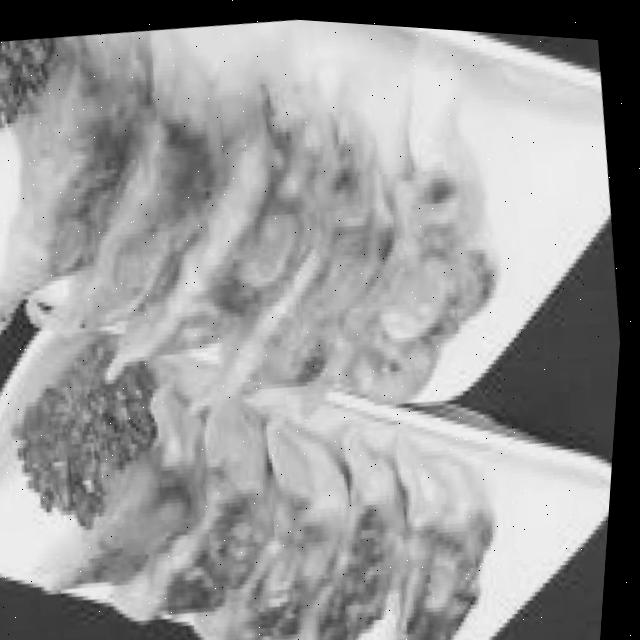带馅早点: (0, 13, 548, 640)
